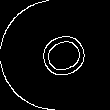O_SW: (23, 25, 87, 85)
